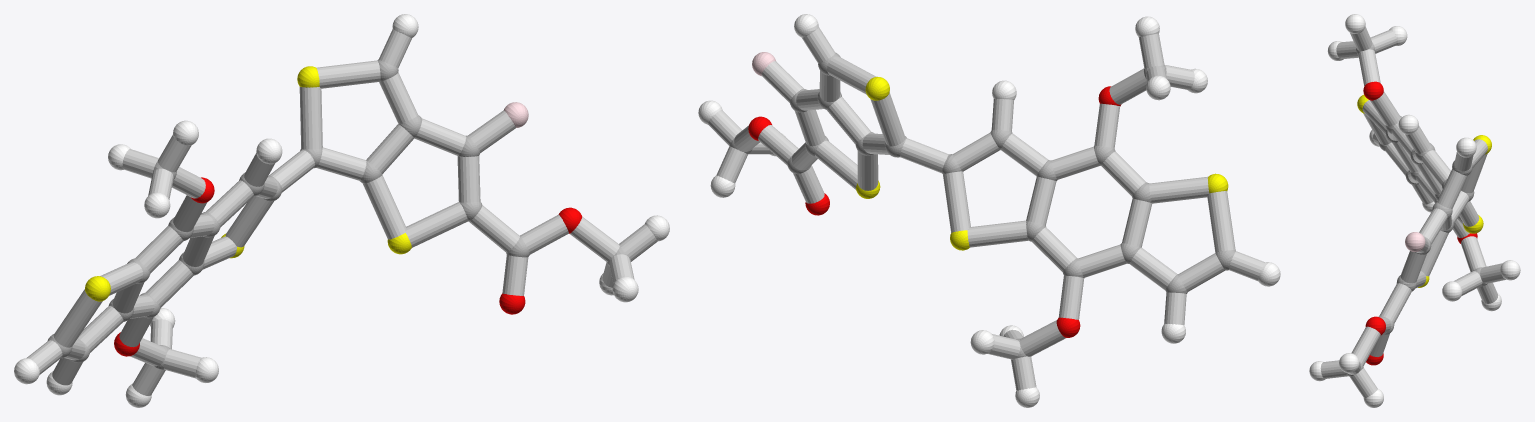
The model's file is Dimethoxy_Benzodithiophene_Phi_25_Theta_300_Methylcarbonyl_3_Fluoro_Thienothiophene.glb.
The picture shows the model from 3 angles, left to right: view 1: azimuth 30°, elevation 25°; view 2: azimuth 150°, elevation 25°; view 3: azimuth 270°, elevation 25°; orthographic projection. The views are drawn at different scales.
Visible parts, largest first — view 1: grp15205, grp8689, grp1, grp7241, grp13395; view 2: grp15205, grp8689, grp1, grp7241, grp13395; view 3: grp15205, grp8689, grp1, grp13395, grp7241, grp14843.
Part boxes in pixels (bbox=[...]): grp15205: bbox=[26, 29, 657, 395]; grp8689: bbox=[14, 14, 669, 407]; grp1: bbox=[47, 59, 631, 369]; grp7241: bbox=[85, 66, 411, 301]; grp13395: bbox=[114, 177, 582, 356]; grp15205: bbox=[708, 27, 1265, 390]; grp8689: bbox=[698, 14, 1280, 407]; grp1: bbox=[729, 52, 1235, 358]; grp7241: bbox=[856, 76, 1228, 250]; grp13395: bbox=[748, 86, 1121, 337]; grp15205: bbox=[1320, 26, 1505, 398]; grp8689: bbox=[1309, 14, 1520, 407]; grp1: bbox=[1346, 43, 1487, 376]; grp13395: bbox=[1363, 81, 1477, 365]; grp7241: bbox=[1357, 94, 1491, 287]; grp14843: bbox=[1405, 232, 1425, 251].
Size of the model in its own units: 16.77 by 9.08 by 6.2.
